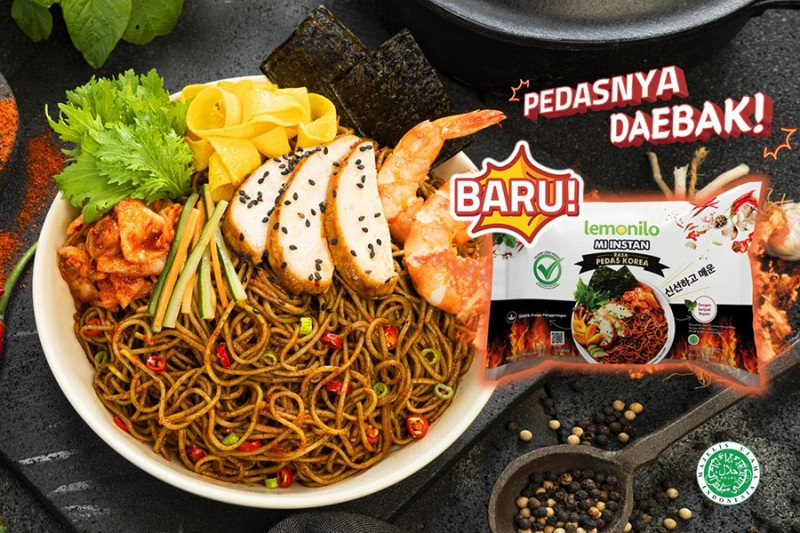Mie: (53, 203, 473, 528)
